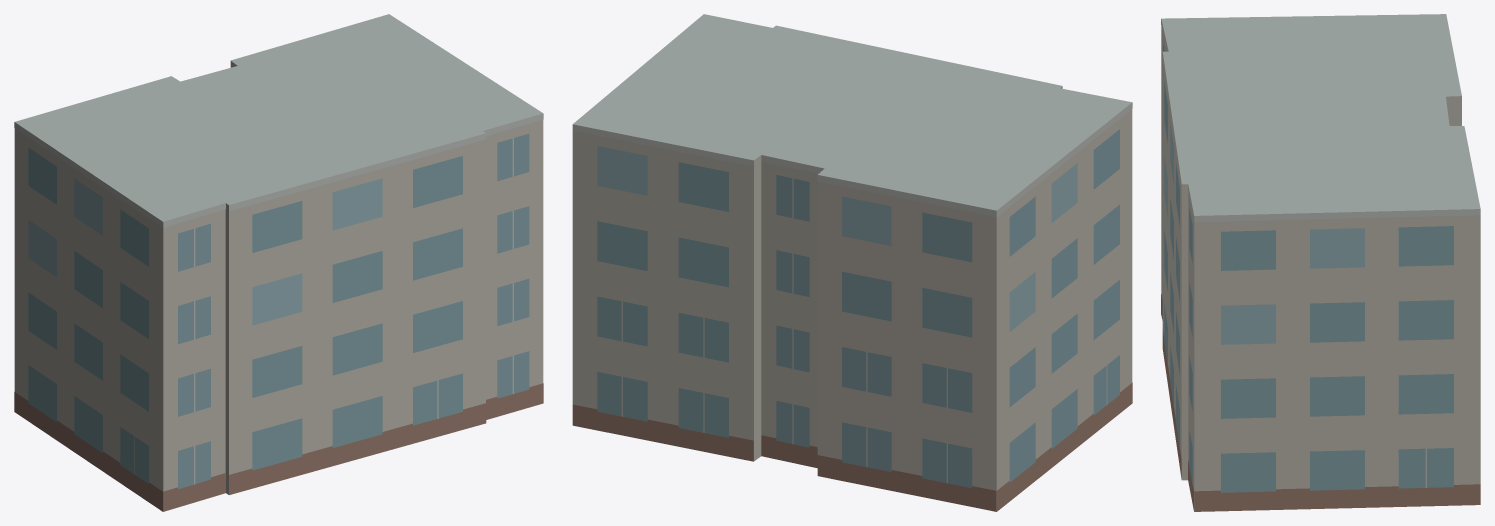
File: survey-upis-32727662.glb
3 views of the same model, side by side, from view 1: azimuth 30°, elevation 25°; view 2: azimuth 150°, elevation 25°; view 3: azimuth 270°, elevation 25° (orthographic). The views are drawn at different scales.
Visible parts, largest first — view 1: survey-upis-32727662.tmp; view 2: survey-upis-32727662.tmp; view 3: survey-upis-32727662.tmp.
Part boxes in pixels (x1,y1,x2,y2): survey-upis-32727662.tmp: (14, 14, 543, 511); survey-upis-32727662.tmp: (572, 14, 1132, 511); survey-upis-32727662.tmp: (1161, 14, 1480, 511).
Bounding box in the file's own units: 16.75 × 11.44 × 11.2.
